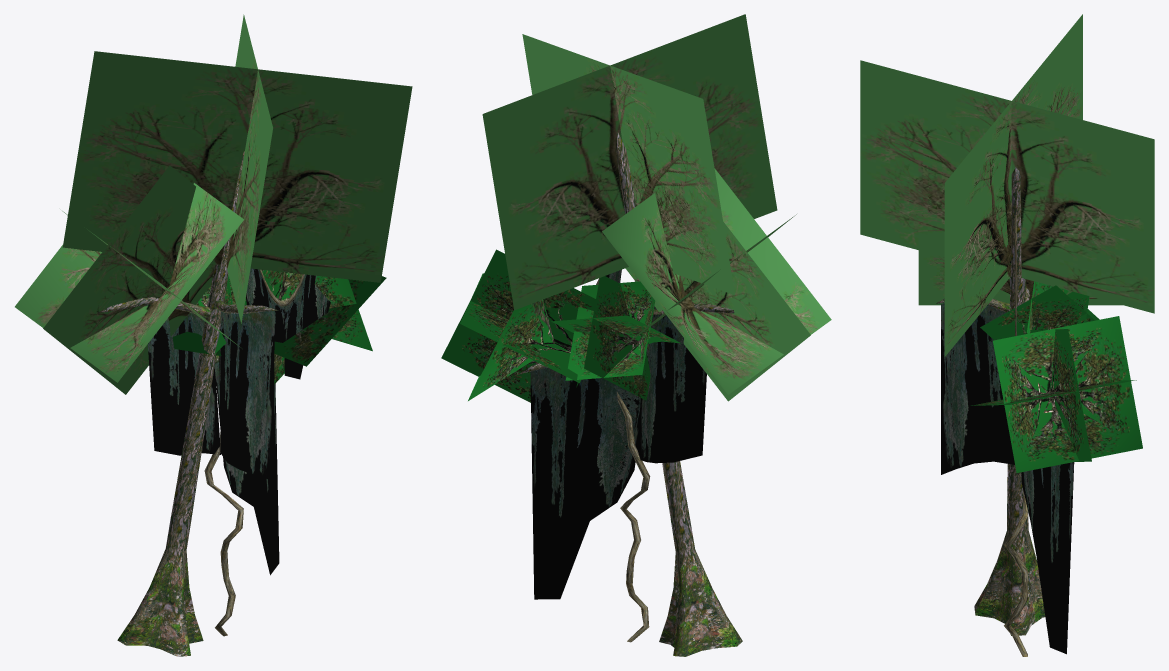
File: decd_mosstreeflaredtilted_l0.fbx
The picture shows the model from 3 angles, left to right: view 1: azimuth 30°, elevation 25°; view 2: azimuth 150°, elevation 25°; view 3: azimuth 270°, elevation 25°; orthographic projection.
Parts seen in each view (by area): view 1: mesh_node; view 2: mesh_node; view 3: mesh_node.
Part boxes in pixels (<box>): mesh_node: <box>15,14,412,656</box>; mesh_node: <box>441,14,831,656</box>; mesh_node: <box>860,14,1154,656</box>.
Bounding box in the file's own units: 10.08 × 16.78 × 7.57.
